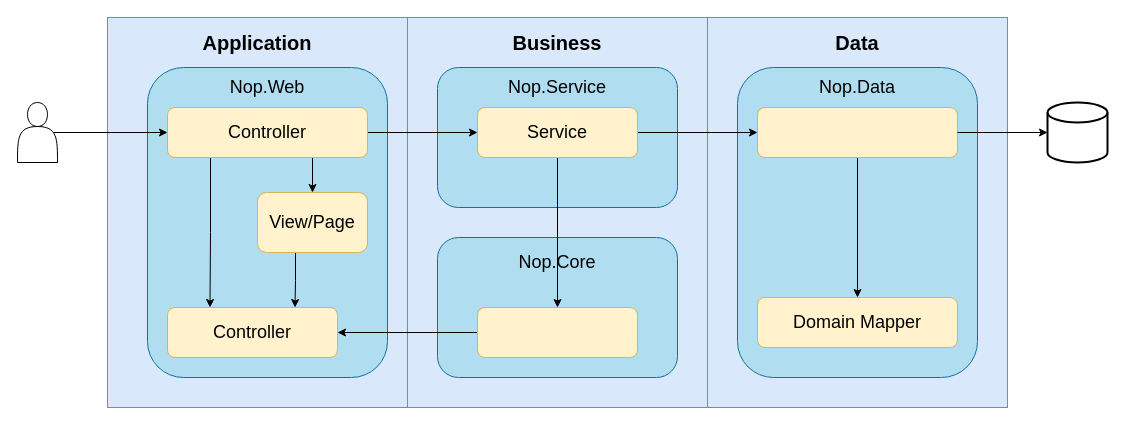
The diagram is 1126 pixels wide and 425 high, and some of its shapes have lost their labels. The shapes that lost their labels are listed below. From the top down, each one's centre as x and y in pixels, then its label:
At (x=857, y=132): "Repository".
At (x=557, y=332): "Domain Entity".
